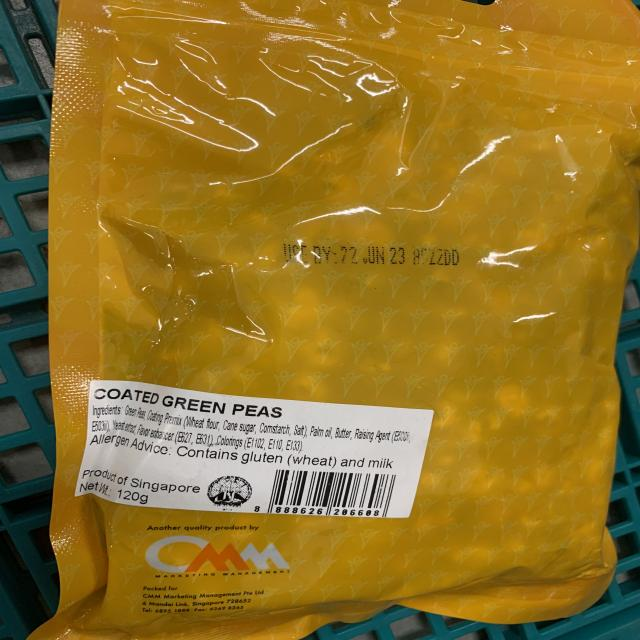object_name: (72, 0, 614, 640)
